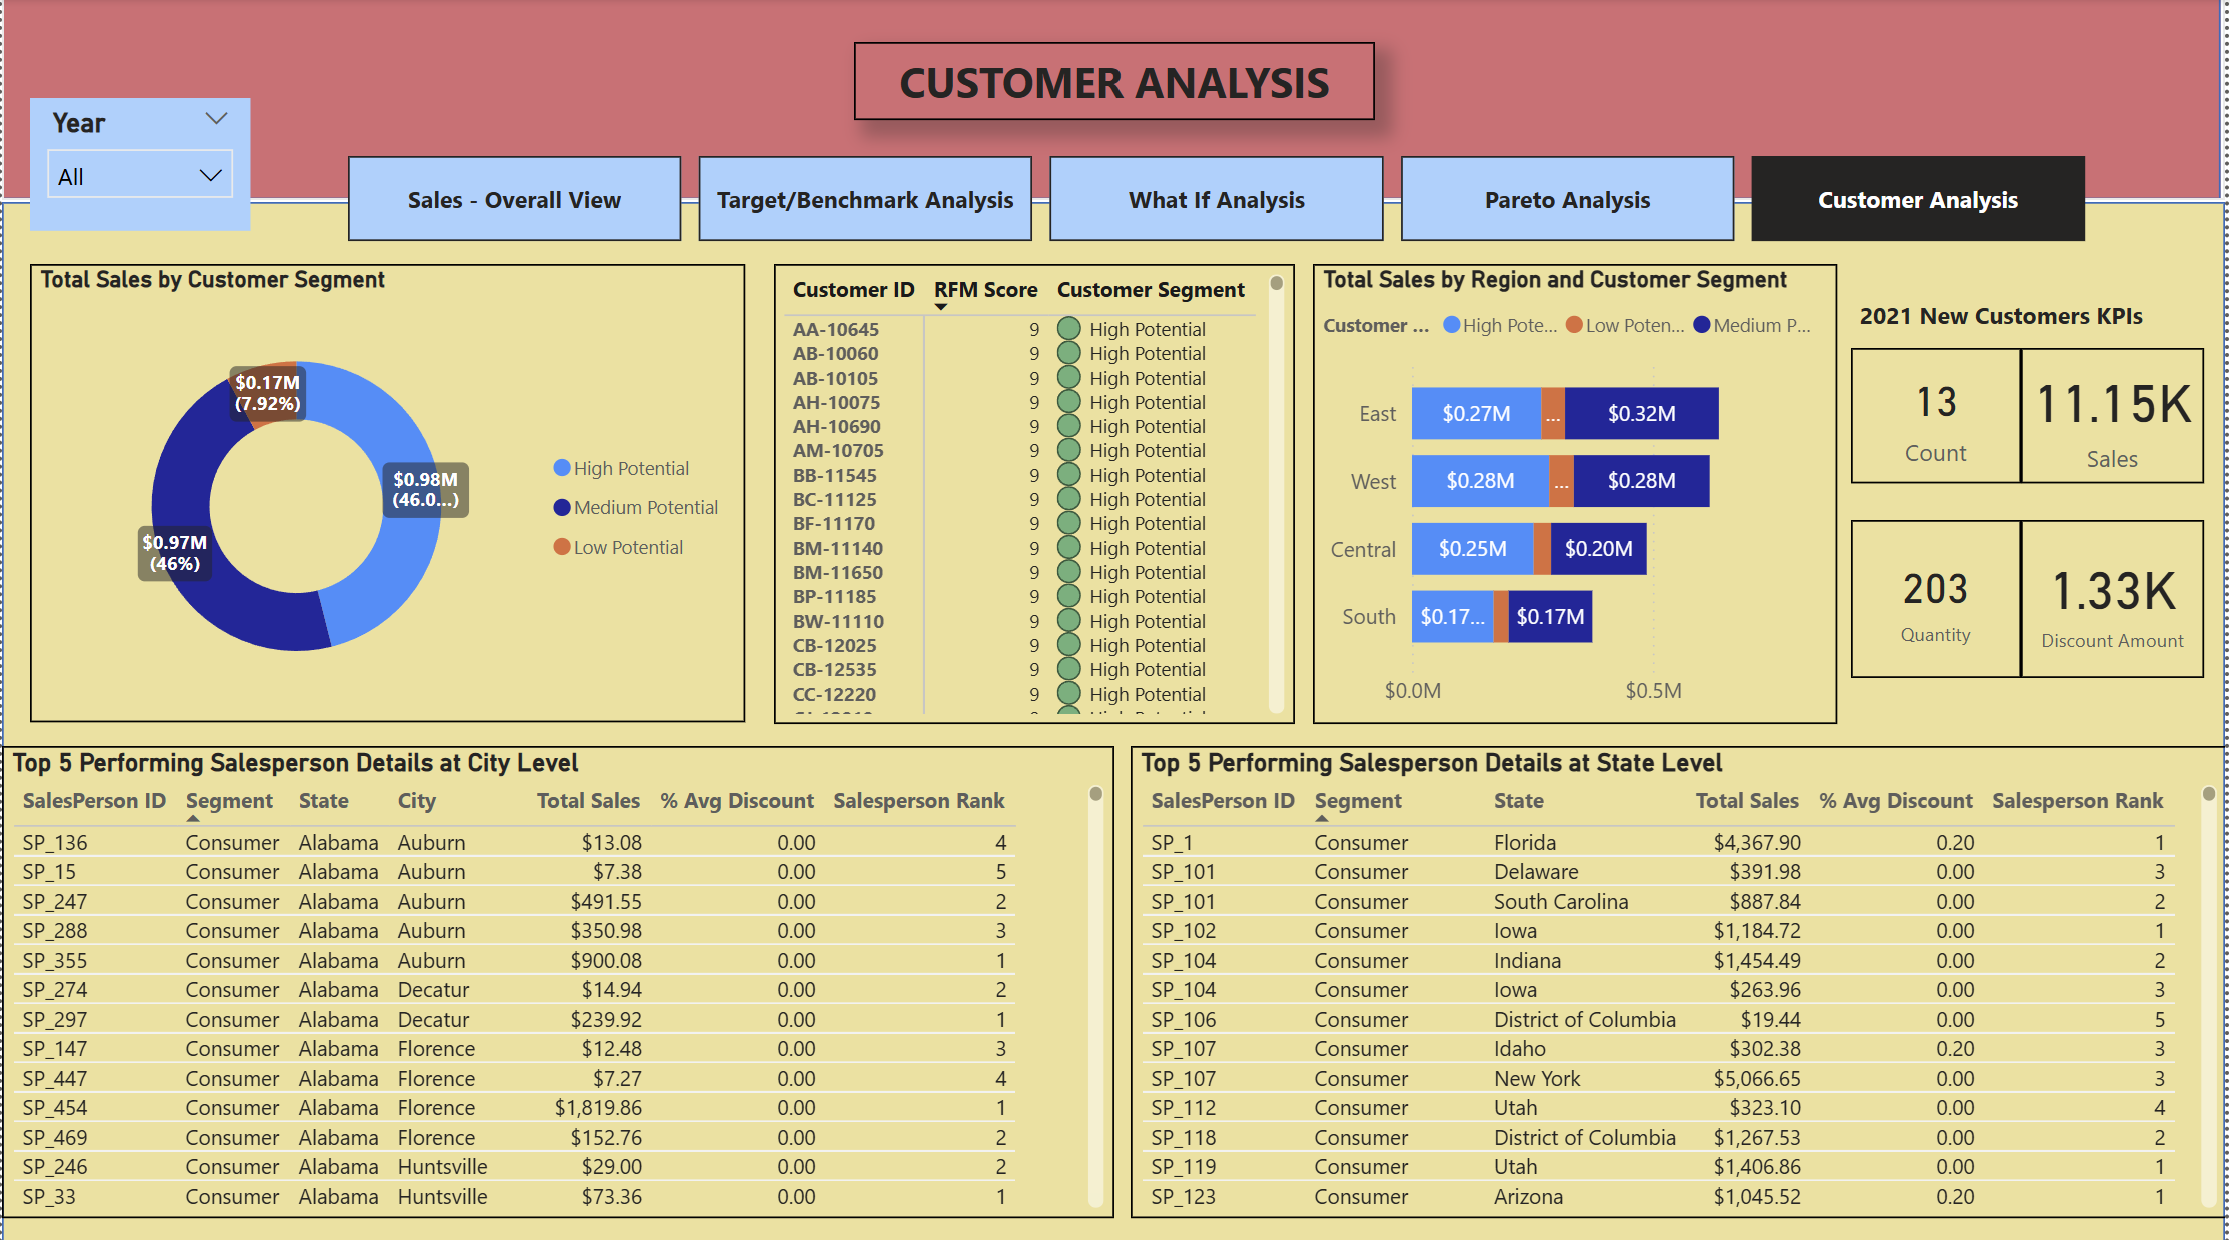

The page's visual inventory and layout, read from the dashboard file:
{"tool":"powerbi","page":{"name":"Customer Analysis","canvas":[1280,720],"ordinal":4},"visuals":[{"type":"shape","box":[0,0,1280,116.2],"z":0},{"type":"shape","box":[0,117.5,1279.9,602.5],"z":1000},{"type":"donutChart","fields":{"Y":["Measure Table.Total Sales"],"Category":["RFM Table.Customer Segment"]},"box":[15.9,153.2,412.1,264.2],"z":2000},{"type":"pivotTable","fields":{"Rows":["RFM Table.Customer ID"],"Values":["Min(RFM Table.RFM Score)","Min(RFM Table.Customer Segment)"]},"box":[444.7,153.2,299.5,265],"z":3000},{"type":"barChart","fields":{"Category":["Orders.Region"],"Y":["Measure Table.Total Sales"],"Series":["RFM Table.Customer Segment"]},"box":[754.6,153.2,301.8,265],"z":4000},{"type":"pageNavigator","box":[199.6,91.2,1000.6,49.9],"z":5000},{"type":"card","fields":{"Values":["Measure Table.New Customers Count"]},"box":[1064.7,202.1,97.8,77.9],"z":6000},{"type":"card","fields":{"Values":["Measure Table.New Customers Sales"]},"box":[1162.4,202.1,105.7,77.9],"z":7000},{"type":"card","fields":{"Values":["Measure Table.New Customers Quantity"]},"box":[1064.7,301.2,97.8,91.1],"z":8000},{"type":"card","fields":{"Values":["Measure Table.New Customers Discount"]},"box":[1162.4,301.2,105.7,91.1],"z":9000},{"type":"textbox","box":[1064.7,167.8,184.9,34.3],"z":10000},{"type":"tableEx","title":"Top 5 Performing Salesperson Details at City Level","fields":{"Values":["Orders.SalesPerson ID","Orders.Segment","Orders.State","Orders.City","Measure Table.Total Sales by Salesperson","Measure Table.% Average Discount by Salesperson","Measure Table.Salesperson Rank"]},"box":[0,430.8,640.5,271.9],"z":11000},{"type":"tableEx","title":"Top 5 Performing Salesperson Details at State Level","fields":{"Values":["Orders.SalesPerson ID","Orders.Segment","Orders.State","Measure Table.Total Sales by Salesperson","Measure Table.% Average Discount by Salesperson","Measure Table.Salesperson Rank by State"]},"box":[649.7,430.8,631.3,271.9],"z":12000},{"type":"textbox","box":[490.8,25.3,299.5,44.9],"z":13000},{"type":"slicer","fields":{"Values":["Calendar.Year"]},"box":[15.9,58.1,126.8,76.6],"z":14000}]}

Visuals, with their boxes in screenshot pixels (x1, y1, x2, y2), scaled from the page's 1280x720 canvas onto the 2230x1240 screenshot:
shape: 0,0,2229,200
shape: 0,202,2229,1239
donutChart - Measure Table.Total Sales x RFM Table.Customer Segment: 28,264,746,719
pivotTable - RFM Table.Customer ID x Min(RFM Table.RFM Score): 775,264,1297,720
barChart - Orders.Region x Measure Table.Total Sales: 1315,264,1840,720
pageNavigator: 348,157,2091,243
card - Measure Table.New Customers Count: 1855,348,2025,482
card - Measure Table.New Customers Sales: 2025,348,2209,482
card - Measure Table.New Customers Quantity: 1855,519,2025,676
card - Measure Table.New Customers Discount: 2025,519,2209,676
textbox: 1855,289,2177,348
"Top 5 Performing Salesperson Details at City Level" tableEx: 0,742,1116,1210
"Top 5 Performing Salesperson Details at State Level" tableEx: 1132,742,2229,1210
textbox: 855,44,1377,121
slicer - Calendar.Year: 28,100,249,232
